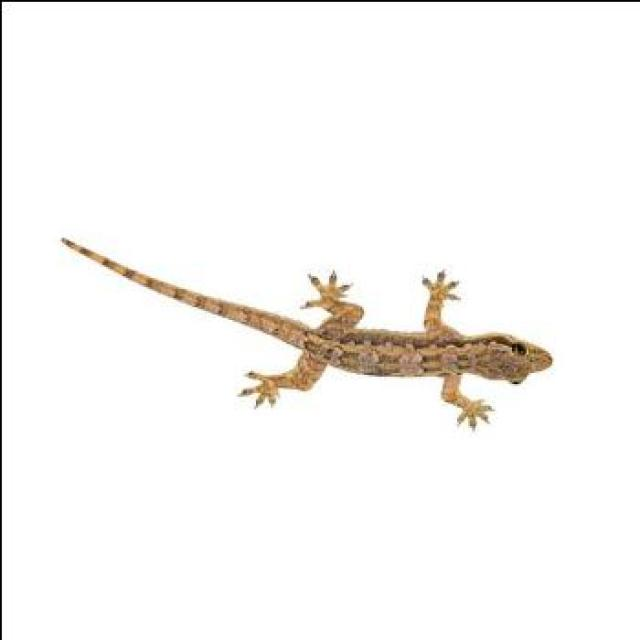Lizard: (53, 230, 558, 439)
